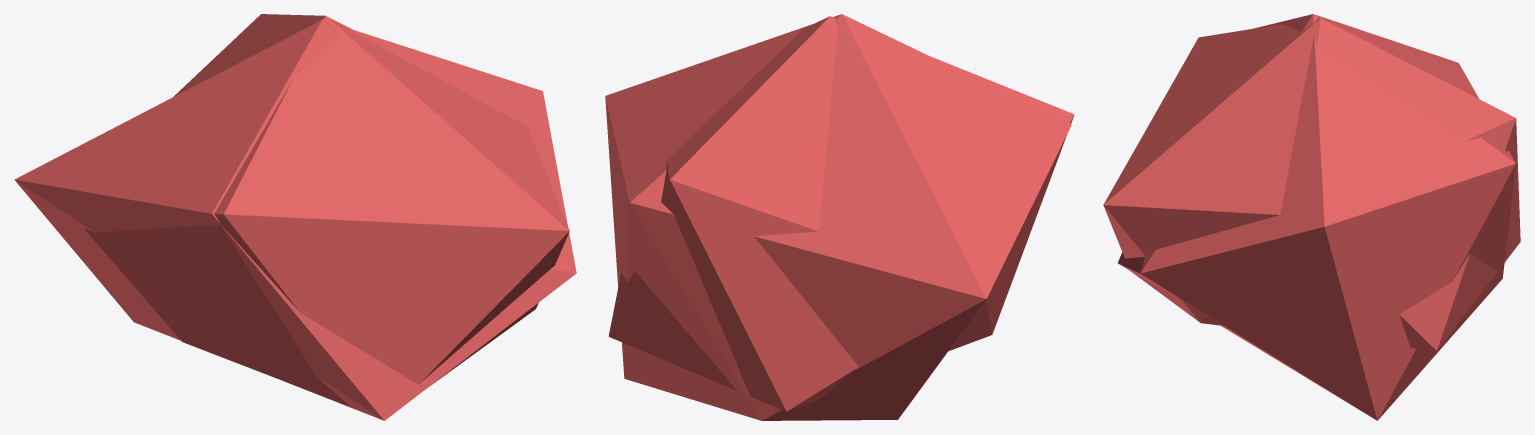
File: Props3D_Rocks.fbx
3 renders of one model, left to right at view 1: azimuth 30°, elevation 25°; view 2: azimuth 150°, elevation 25°; view 3: azimuth 270°, elevation 25°, orthographic. The views are drawn at different scales.
Parts seen in each view (by area): view 1: GeoSphere005, GeoSphere006; view 2: GeoSphere006, GeoSphere005; view 3: GeoSphere006, GeoSphere005.
Boxes of the visible parts, x1,y1,x2,y2 form: GeoSphere005: (83,14,569,406); GeoSphere006: (14,20,576,420); GeoSphere006: (605,14,1071,420); GeoSphere005: (608,16,1074,411); GeoSphere006: (1118,14,1515,420); GeoSphere005: (1103,18,1520,350).
Bounding box in the file's own units: 60.75 × 48.3 × 55.26.
